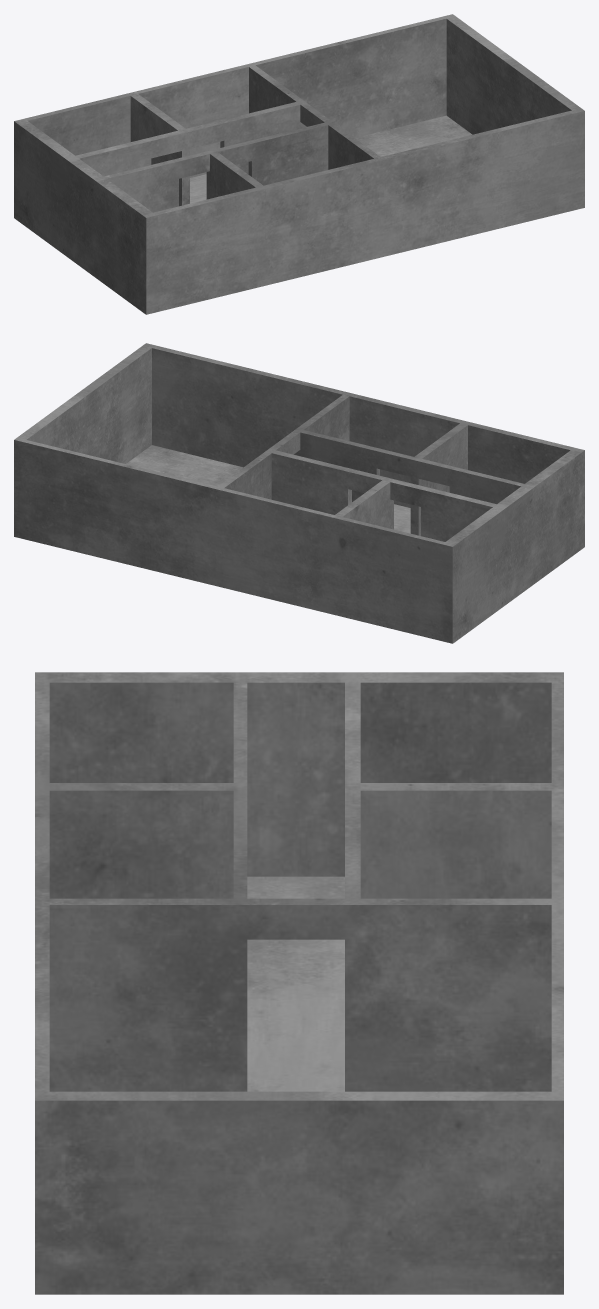
Rendered from ParedesFBX.fbx.
The picture shows the model from 3 angles, top to bottom: view 1: azimuth 30°, elevation 25°; view 2: azimuth 150°, elevation 25°; view 3: azimuth 270°, elevation 25°; orthographic projection. The views are drawn at different scales.
Parts seen in each view (by area): view 1: Paredes.001; view 2: Paredes.001; view 3: Paredes.001.
Part boxes in pixels (x1,y1,x2,y2): Paredes.001: (14, 14, 584, 314); Paredes.001: (14, 343, 584, 643); Paredes.001: (35, 672, 563, 1294).
Size of the model in its own units: 39677 by 8376 by 20700.
1 material, 1 textured.
